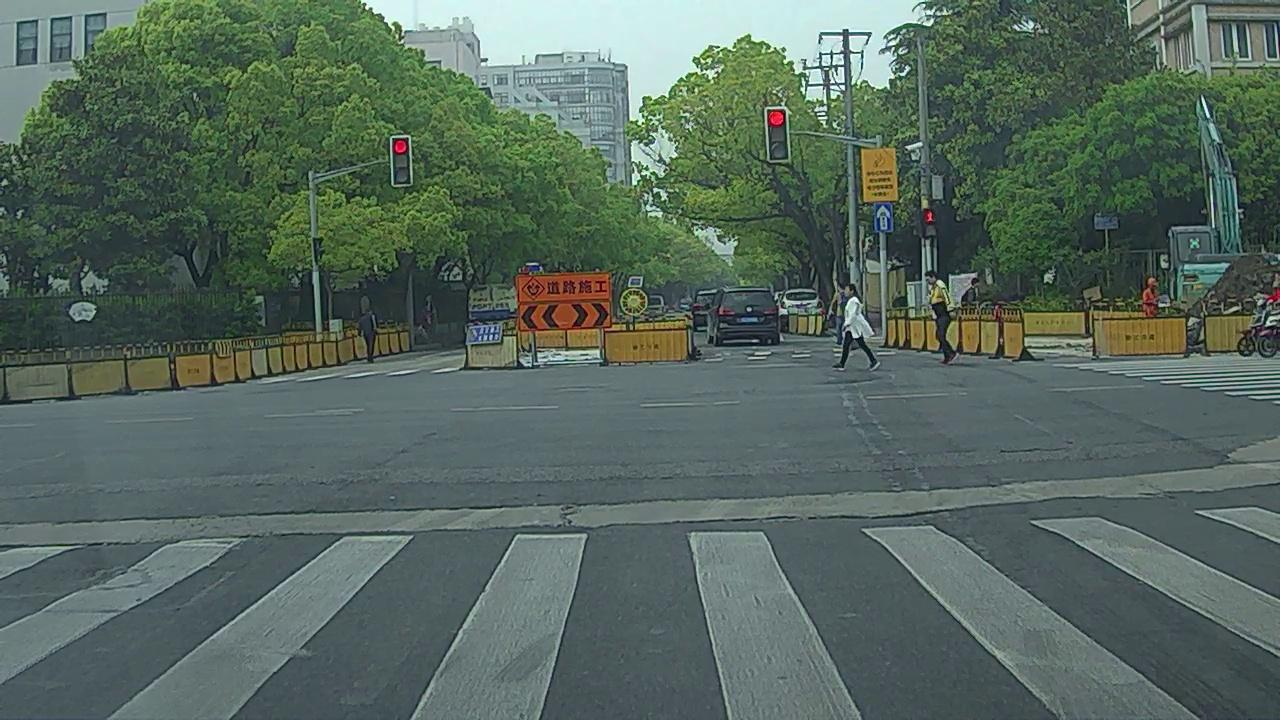traffic_light: (767, 109, 789, 159), (392, 137, 411, 184)
